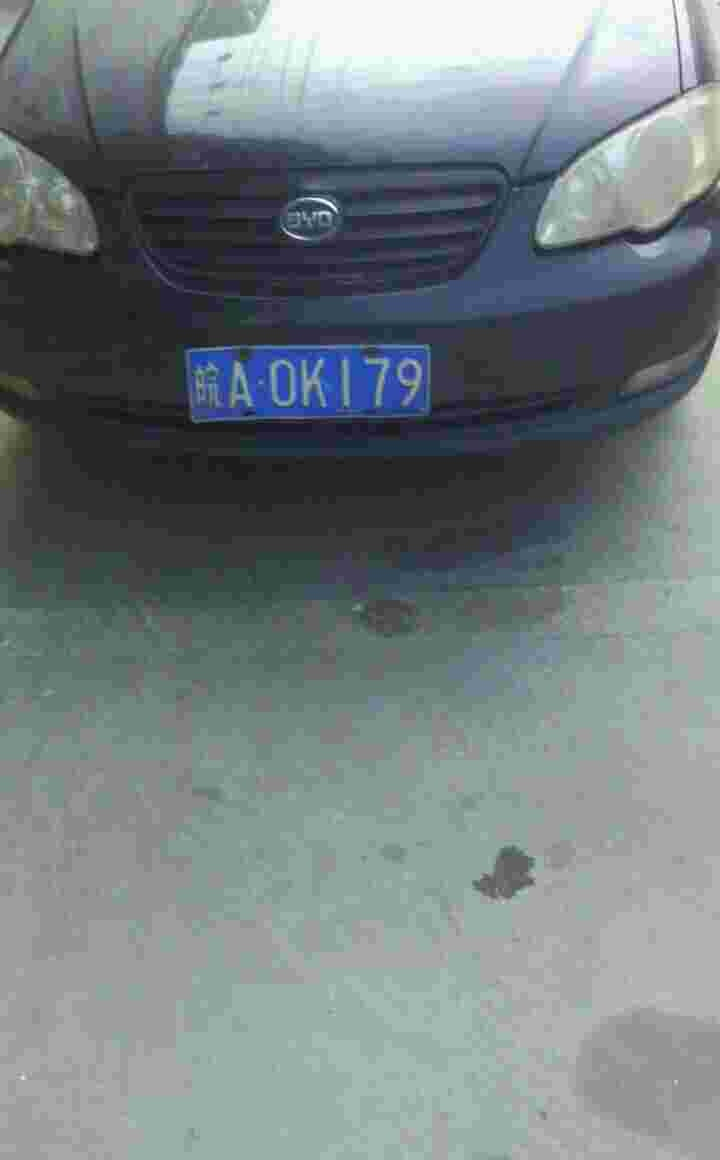license_plate: (188, 343, 431, 414)
